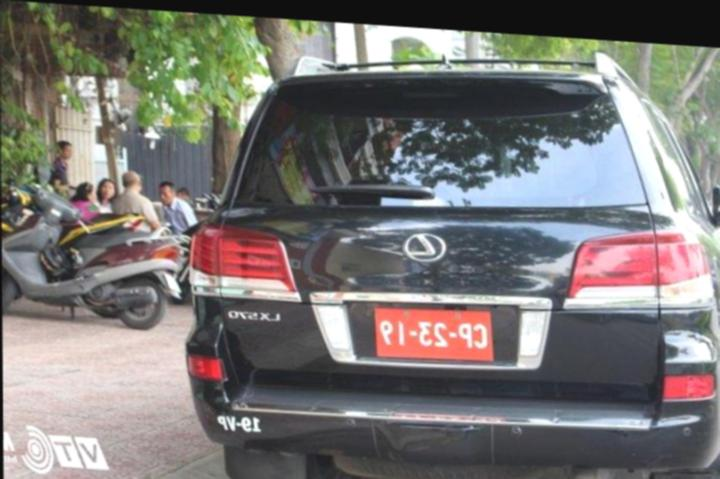License_Plate: (375, 302, 494, 370)
